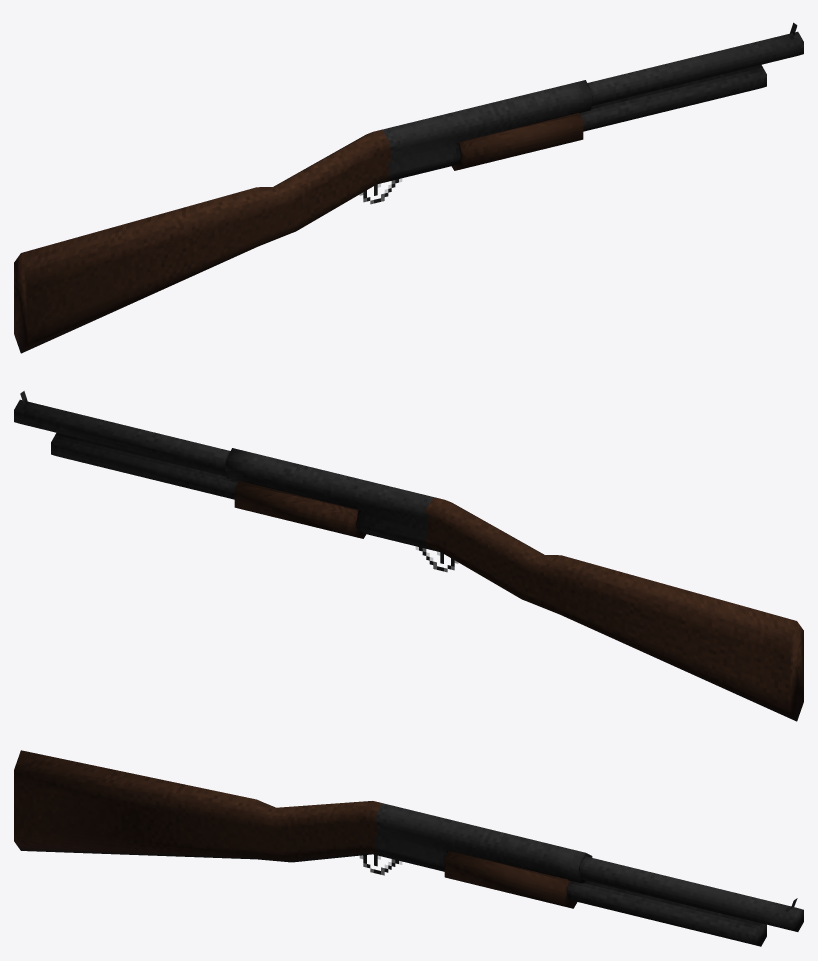
The model's file is shotgun.glb.
The picture shows the model from 3 angles, top to bottom: view 1: azimuth 30°, elevation 25°; view 2: azimuth 150°, elevation 25°; view 3: azimuth 330°, elevation 25°; orthographic projection.
Visible parts, largest first — view 1: Shotgun; view 2: Shotgun; view 3: Shotgun.
Boxes of the visible parts, left/top/right/bottom form: Shotgun: left=14, top=22, right=803, bottom=353; Shotgun: left=14, top=391, right=803, bottom=721; Shotgun: left=14, top=750, right=803, bottom=946.
Size of the model in its own units: 1.38 by 0.2498 by 0.0603.
1 material, 1 textured.
